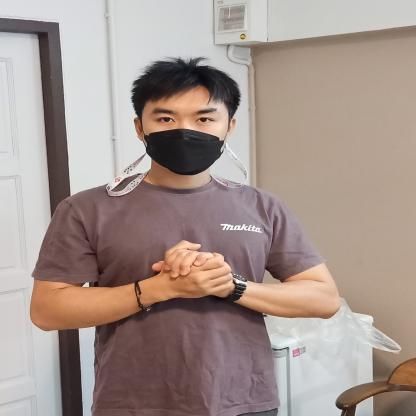Grieve: (87, 229, 297, 323)
